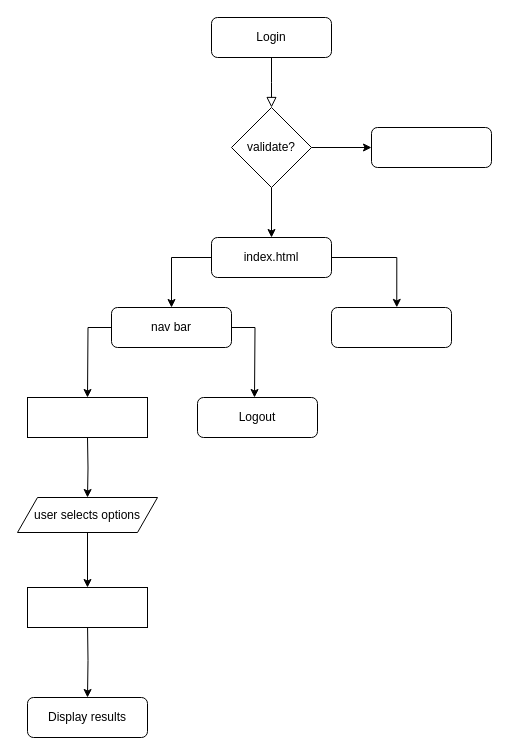
Some shapes in this 509 by 755 pixel diagram are drawn without their labels. Here are the shapes that lost their labels. From the top down, the centre of each, then its label:
At point (431, 147): "Error message".
At point (391, 327): "Footer".
At point (87, 417): "Quizes".
At point (87, 607): "Submit button".
